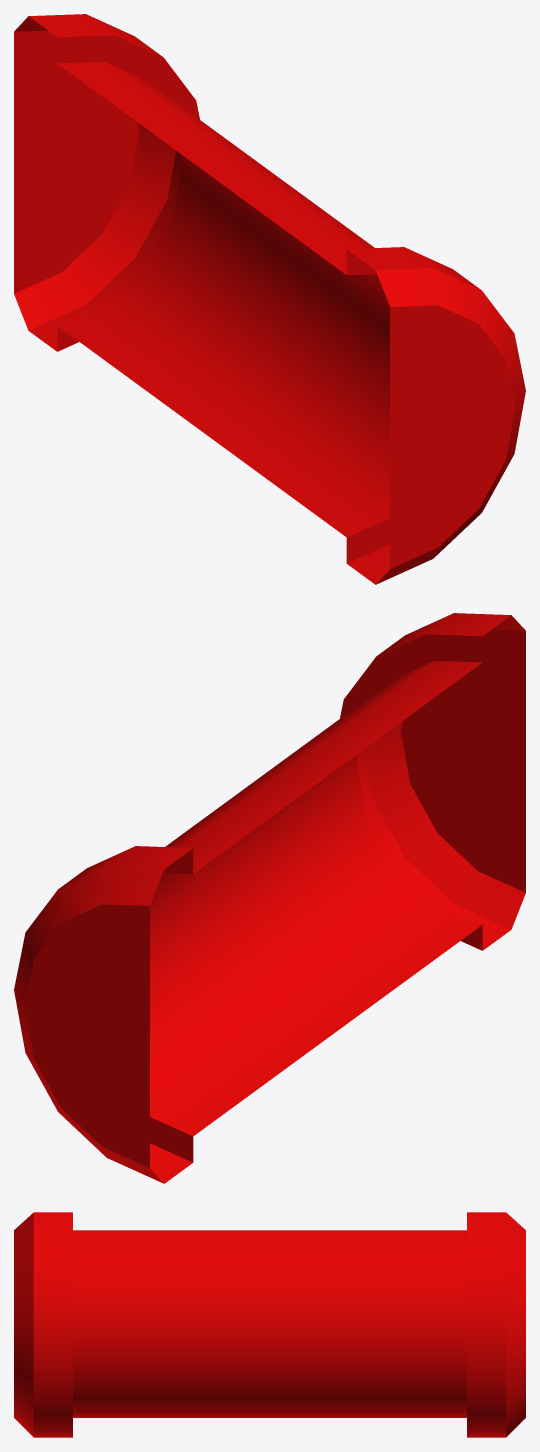
File: spaceship lamp.fbx
3 renders of one model, top to bottom at view 1: azimuth 30°, elevation 25°; view 2: azimuth 150°, elevation 25°; view 3: azimuth 270°, elevation 25°, orthographic. The views are drawn at different scales.
Parts seen in each view (by area): view 1: spaceship lamp_low; view 2: spaceship lamp_low; view 3: spaceship lamp_low.
Part boxes in pixels (bbox=[...]): spaceship lamp_low: bbox=[14, 14, 525, 584]; spaceship lamp_low: bbox=[14, 613, 525, 1183]; spaceship lamp_low: bbox=[14, 1212, 525, 1437].
Size of the model in its own units: 3 by 6 by 13.
